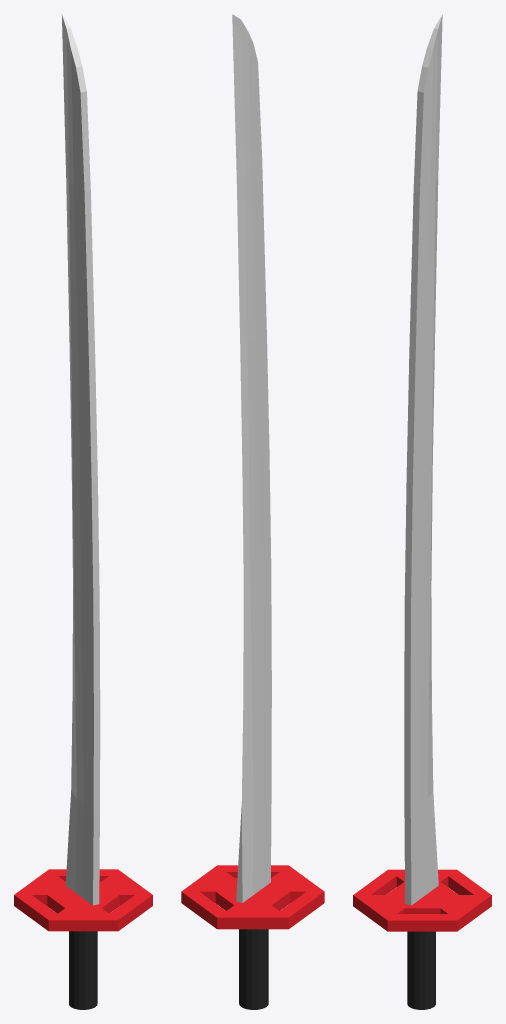
File: katana-by-sampokemon-Hs6TtkFQqR.glb
3 views of the same model, side by side, from view 1: azimuth 30°, elevation 25°; view 2: azimuth 150°, elevation 25°; view 3: azimuth 330°, elevation 25° (orthographic). The views are drawn at different scales.
Parts seen in each view (by area): view 1: Cube; view 2: Cube; view 3: Cube.
Part boxes in pixels (x1=…): Cube: x1=14, y1=14, x2=152, y2=1009; Cube: x1=181, y1=14, x2=324, y2=1009; Cube: x1=353, y1=14, x2=491, y2=1009.
Bounding box in the file's own units: 0.2663 × 2.38 × 0.3075.
